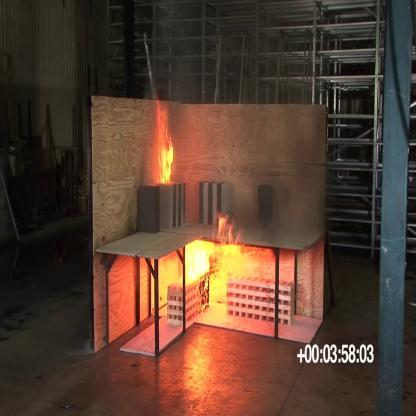fire: (161, 231, 244, 297), (142, 103, 187, 209)
